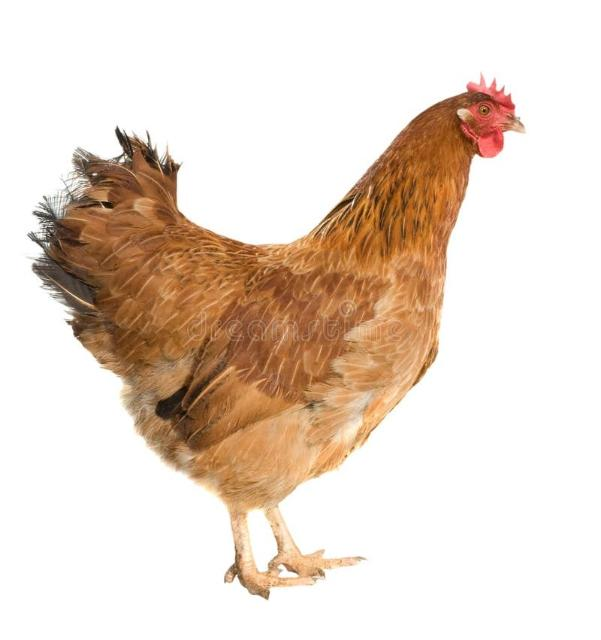Chicken: (30, 68, 528, 601)
